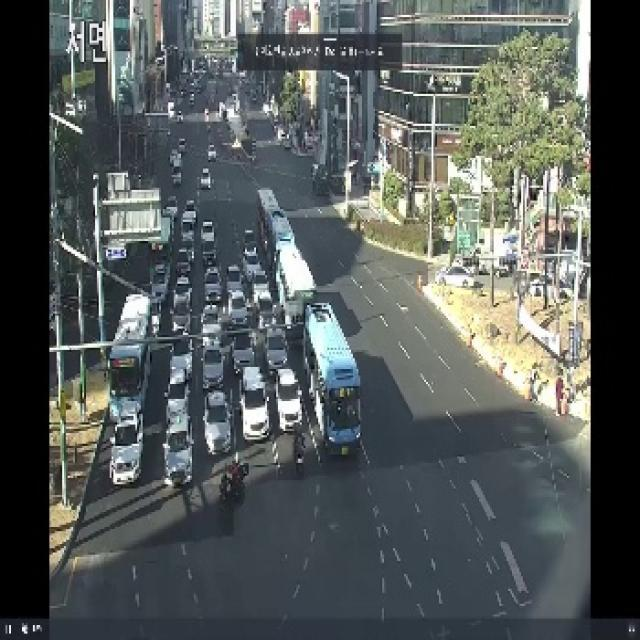bus: (305, 302, 361, 449), (258, 189, 315, 324), (109, 294, 150, 419)
car: (164, 399, 192, 486), (110, 414, 142, 485), (242, 366, 270, 441), (204, 391, 231, 454), (276, 369, 301, 432), (266, 328, 288, 369), (172, 286, 191, 332), (204, 349, 224, 388), (151, 262, 170, 302), (234, 334, 255, 367), (229, 290, 248, 326), (202, 315, 221, 349), (201, 221, 215, 266), (258, 291, 274, 328), (252, 270, 269, 303), (244, 248, 261, 281), (205, 268, 222, 301), (181, 210, 196, 242), (226, 265, 242, 292), (170, 150, 182, 185), (201, 221, 214, 242), (199, 168, 212, 189), (178, 248, 192, 262), (208, 144, 216, 161), (166, 195, 176, 207), (178, 138, 186, 152), (177, 276, 189, 285), (176, 110, 184, 123), (204, 305, 218, 311)
motorcyclist: (220, 461, 249, 502), (294, 431, 305, 477)
road-signs: (101, 172, 161, 247)
